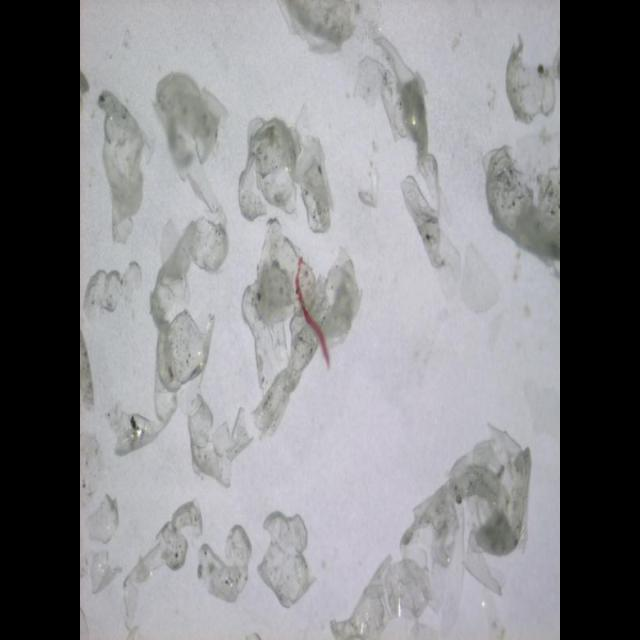Fibre: (240, 216, 362, 438)
